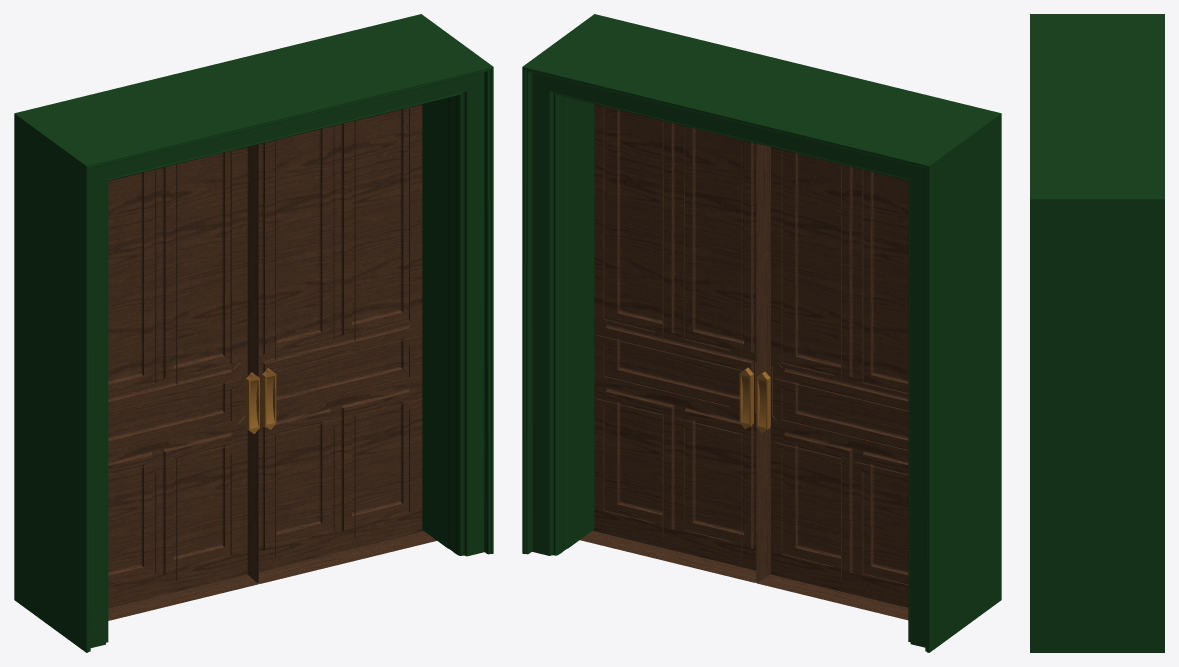
The model's file is porta.glb.
3 renders of one model, left to right at view 1: azimuth 30°, elevation 25°; view 2: azimuth 150°, elevation 25°; view 3: azimuth 270°, elevation 25°, orthographic. The views are drawn at different scales.
Parts seen in each view (by area): view 1: Door Frame, Door 1, Door 2; view 2: Door Frame, Door 1, Door 2; view 3: Door Frame.
Boxes of the visible parts, x1,y1,x2,y2 form: Door Frame: (14, 14, 493, 652); Door 1: (258, 104, 436, 583); Door 2: (108, 144, 259, 620); Door Frame: (522, 14, 1001, 652); Door 1: (580, 104, 756, 582); Door 2: (756, 143, 908, 620); Door Frame: (1030, 14, 1164, 652).
Bounding box in the file's own units: 1.84 × 2.11 × 0.5654.
Materials: 3 (1 with a texture image).
